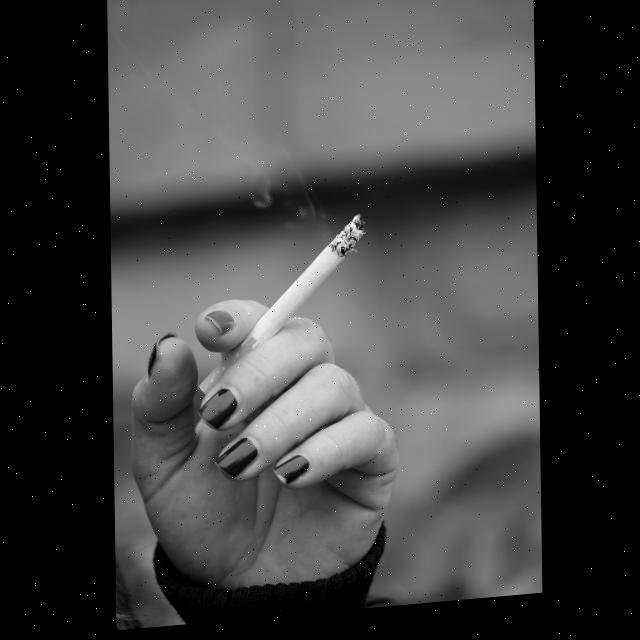cigarette: (238, 219, 367, 355)
